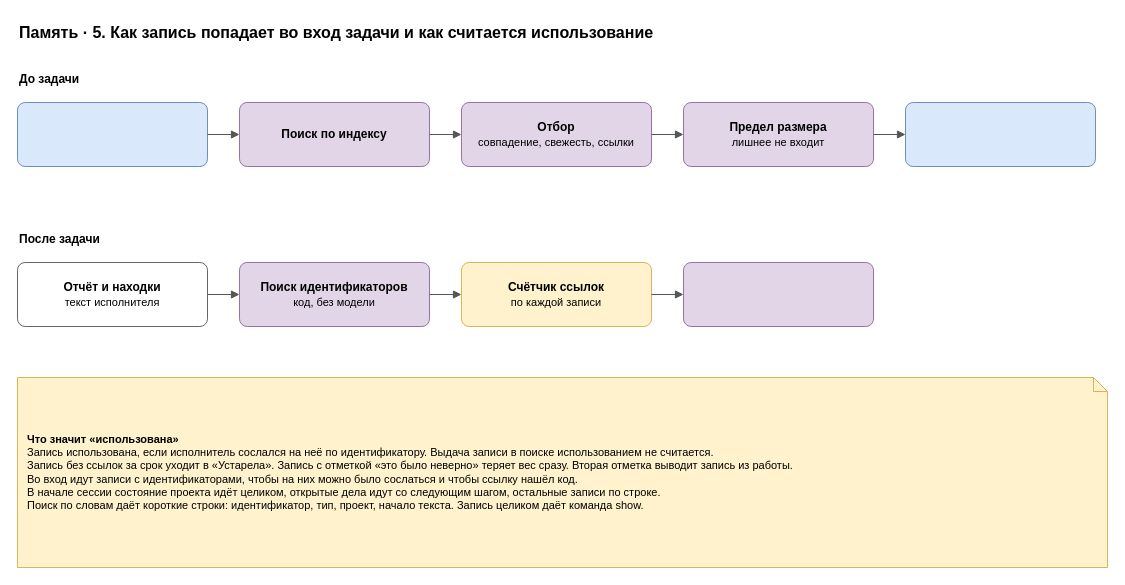
Image size: 1125x585. Some labels were removed from this diagram. The centre of each missing label's shape, as x and y in pixels:
"Вес при отборе растёт от ссылок" belongs at point (778, 294).
"Вход задачи записи с идентификаторами" belongs at point (1000, 134).
"Ключи задачи место, термины, сценарий" belongs at point (112, 134).
